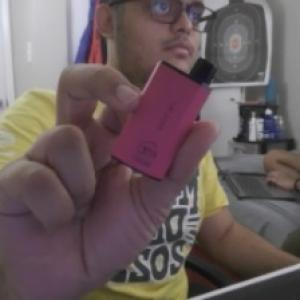Blume-E-Ciggirate: (110, 56, 220, 183)
